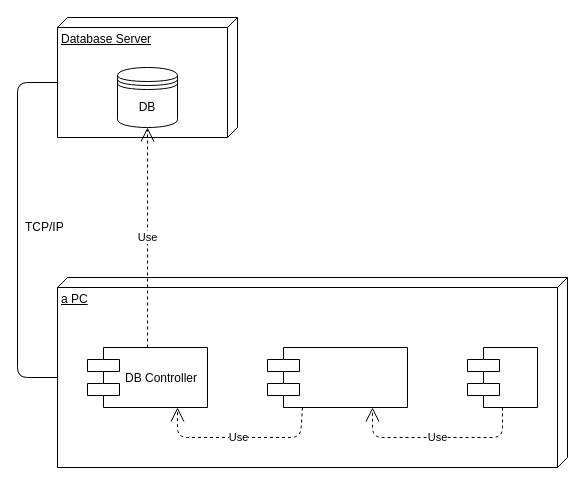
The diagram is 585 pixels wide and 485 high, and some of its shapes have lost their labels. The shapes that lost their labels are listed below. From the top down, each one's centre as x and y in pixels, then its label:
point 337,377: Application Logic
point 502,377: UI
